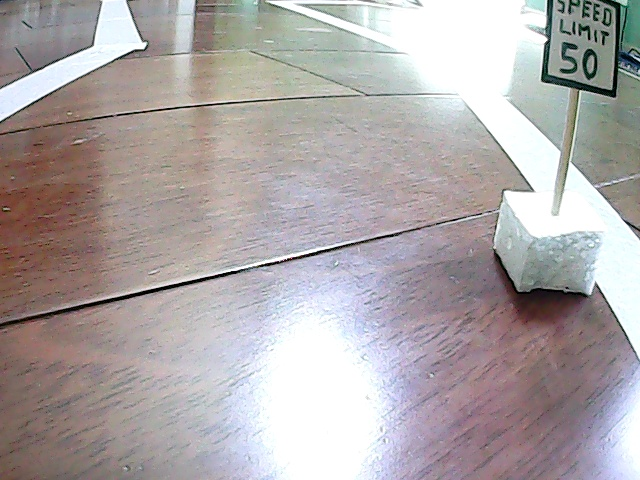speed_50: (507, 1, 625, 308)
